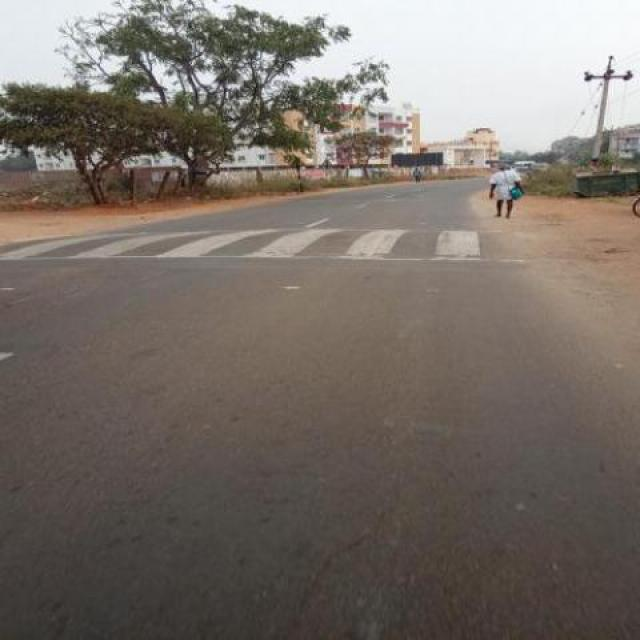Speed Bump: (2, 228, 596, 263)
